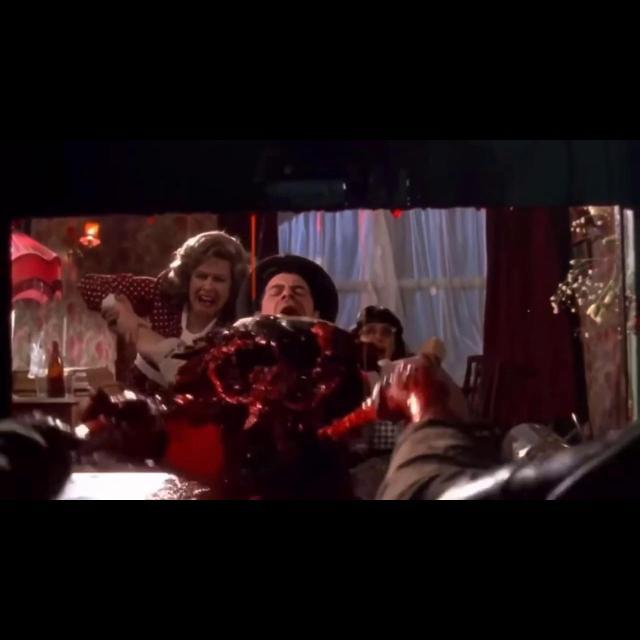blood: (79, 314, 466, 499)
